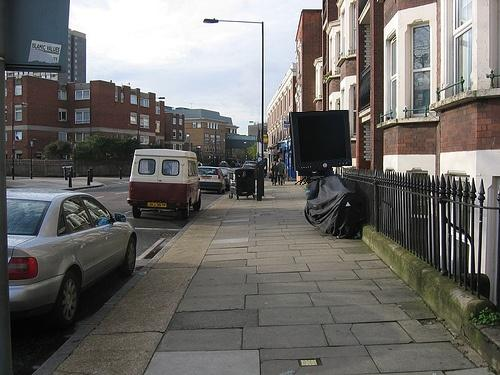tampered: (290, 111, 352, 185)
